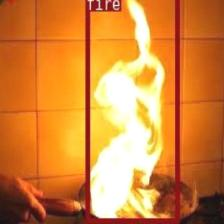fire: (85, 0, 179, 223)
